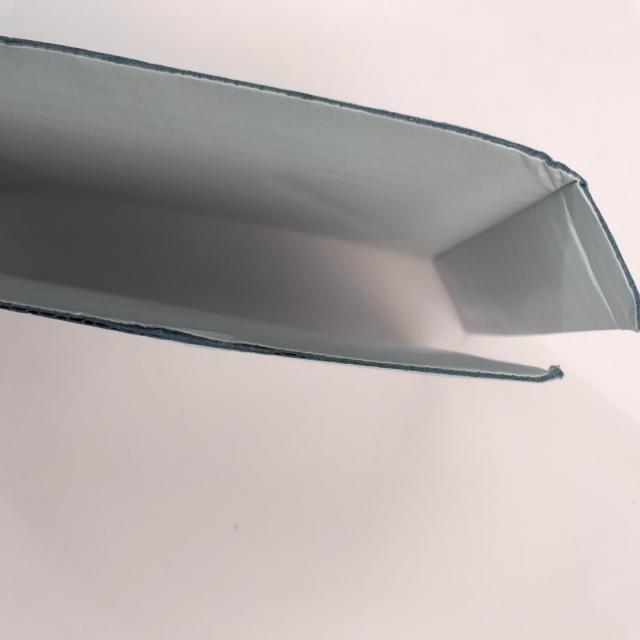cardboard: (0, 32, 640, 390)
